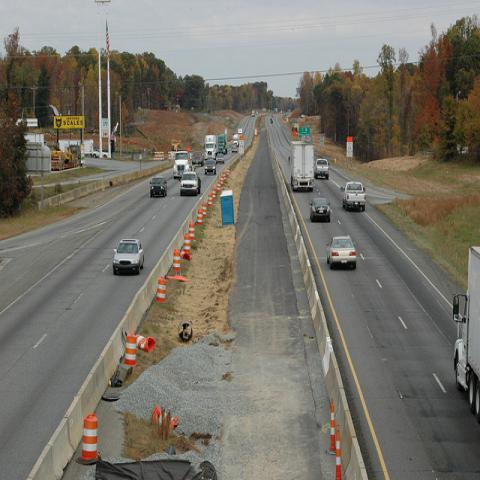car: (112, 238, 144, 276), (326, 235, 357, 270), (179, 173, 202, 197), (310, 198, 330, 222), (150, 176, 168, 200), (316, 161, 328, 180), (205, 157, 216, 175), (216, 153, 225, 165), (231, 146, 237, 154)
truck: (452, 245, 480, 423), (289, 134, 315, 192), (172, 148, 197, 181), (341, 181, 366, 213), (204, 135, 216, 161), (218, 134, 228, 154), (232, 134, 239, 146)
